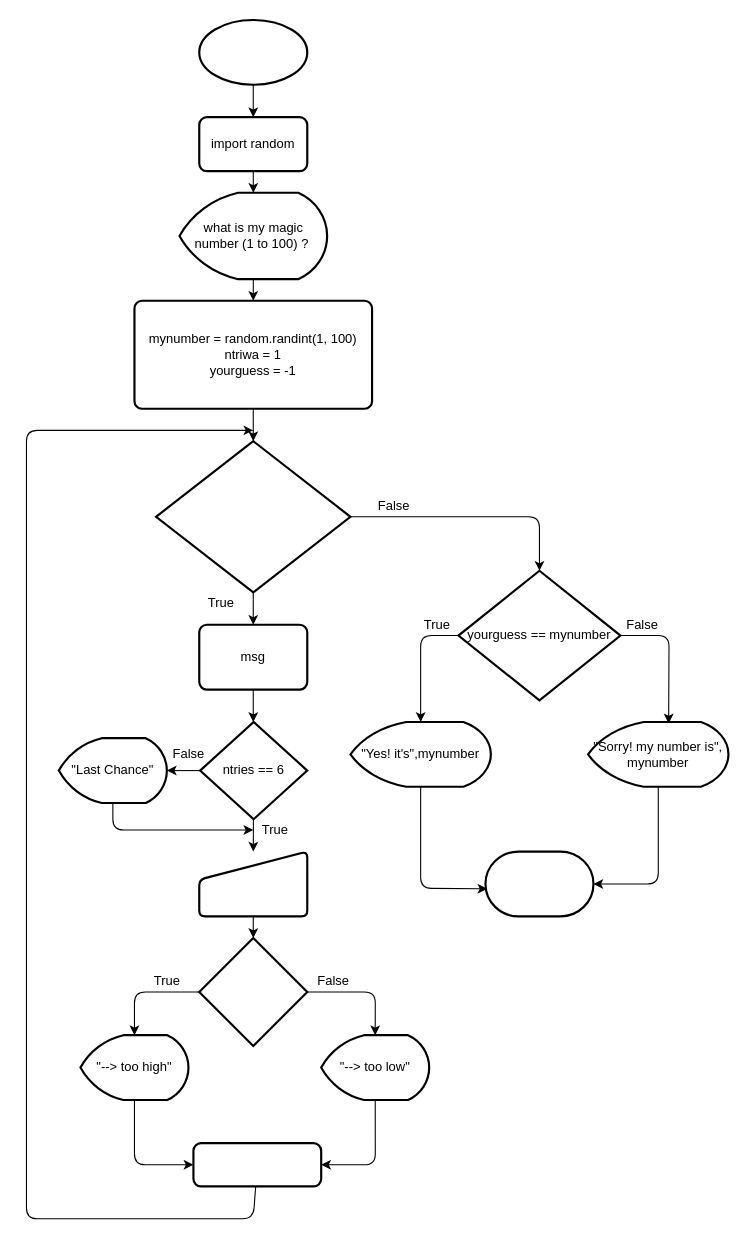
The diagram is 748 pixels wide and 1246 high, and some of its shapes have lost their labels. Here are the shapes that lost their labels. From the top down, the centre of each, then its label:
At pixel 253 51: "start".
At pixel 252 516: "ntries < 7 and yourguess != mynumber".
At pixel 253 883: "yourguess".
At pixel 539 883: "end".
At pixel 253 991: "yourguess > mynuber".
At pixel 257 1164: "ntries += 1".
